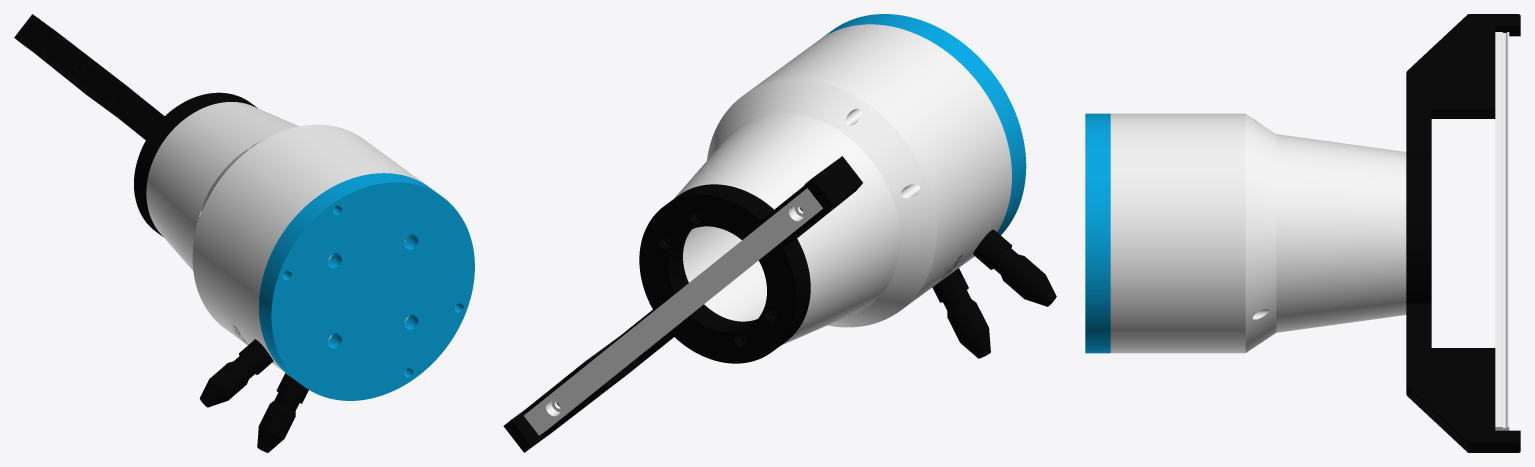
3 renders of one model, left to right at view 1: azimuth 30°, elevation 25°; view 2: azimuth 150°, elevation 25°; view 3: azimuth 270°, elevation 25°, orthographic. The views are drawn at different scales.
Visible parts, largest first — view 1: part1_Ĭￏ.002; view 2: part1_Ĭￏ.002; view 3: part1_Ĭￏ.002.
Boxes of the visible parts, bbox=[...] form: part1_Ĭￏ.002: bbox=[14, 14, 474, 452]; part1_Ĭￏ.002: bbox=[503, 14, 1056, 452]; part1_Ĭￏ.002: bbox=[1085, 14, 1520, 452].
Bounding box in the file's own units: 0.1366 × 0.1366 × 0.171.
Materials: 6 (1 with a texture image).
